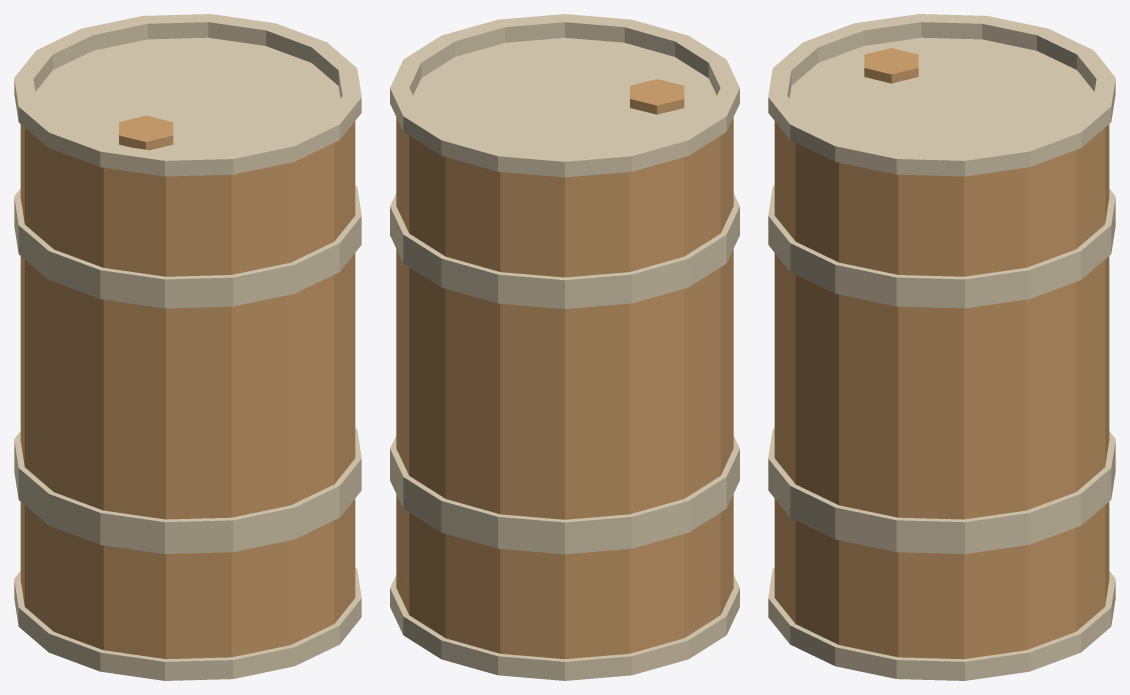
File: barrel_a.gltf
The picture shows the model from 3 angles, left to right: view 1: azimuth 30°, elevation 25°; view 2: azimuth 150°, elevation 25°; view 3: azimuth 270°, elevation 25°; orthographic projection.
Parts seen in each view (by area): view 1: barrel_a001; view 2: barrel_a001; view 3: barrel_a001.
Boxes of the visible parts, <box> form: barrel_a001: <box>14,14,361,680</box>; barrel_a001: <box>390,14,739,680</box>; barrel_a001: <box>768,14,1115,680</box>.
Bounding box in the file's own units: 0.5559 × 0.9177 × 0.5559.
1 material, 1 textured.
